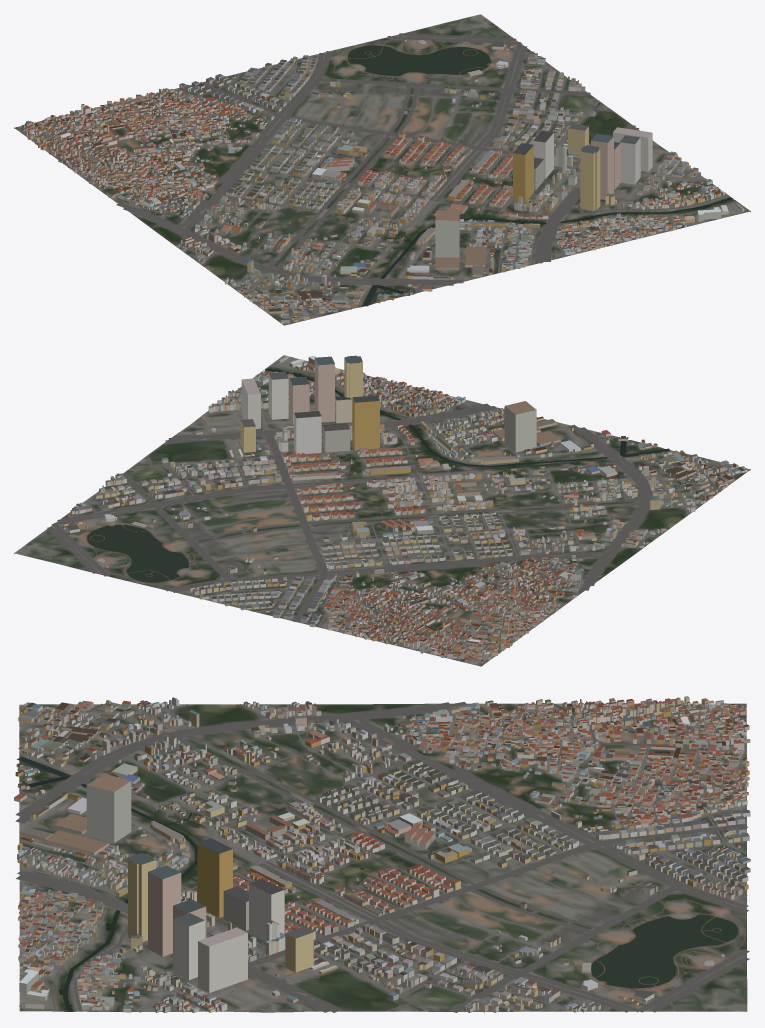
3 views of the same model, one above another, from view 1: azimuth 30°, elevation 25°; view 2: azimuth 150°, elevation 25°; view 3: azimuth 270°, elevation 25° (orthographic). The views are drawn at different scales.
Parts seen in each view (by area): view 1: buildings, ground, roads, water; view 2: buildings, ground, roads, water; view 3: buildings, ground, roads, water.
Part boxes in pixels (bbox=[...]): buildings: bbox=[20, 40, 744, 323]; ground: bbox=[14, 14, 750, 325]; roads: bbox=[16, 33, 743, 324]; water: bbox=[348, 45, 732, 306]; buildings: bbox=[63, 355, 747, 663]; ground: bbox=[14, 355, 750, 666]; roads: bbox=[47, 357, 749, 665]; water: bbox=[87, 368, 670, 582]; buildings: bbox=[14, 696, 750, 1012]; ground: bbox=[19, 703, 747, 1012]; roads: bbox=[15, 702, 749, 1012]; water: bbox=[17, 757, 738, 1011].
Size of the model in its own units: 1415 by 169 by 1420.
